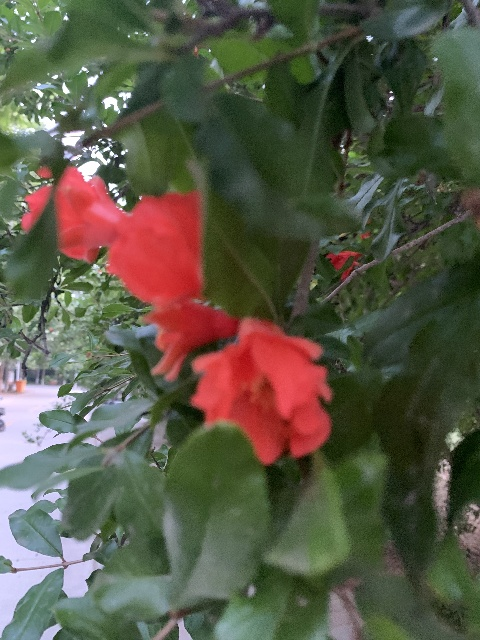flower: (189, 317, 333, 464), (106, 188, 205, 303), (20, 164, 123, 263), (146, 301, 238, 382), (326, 246, 365, 280)
